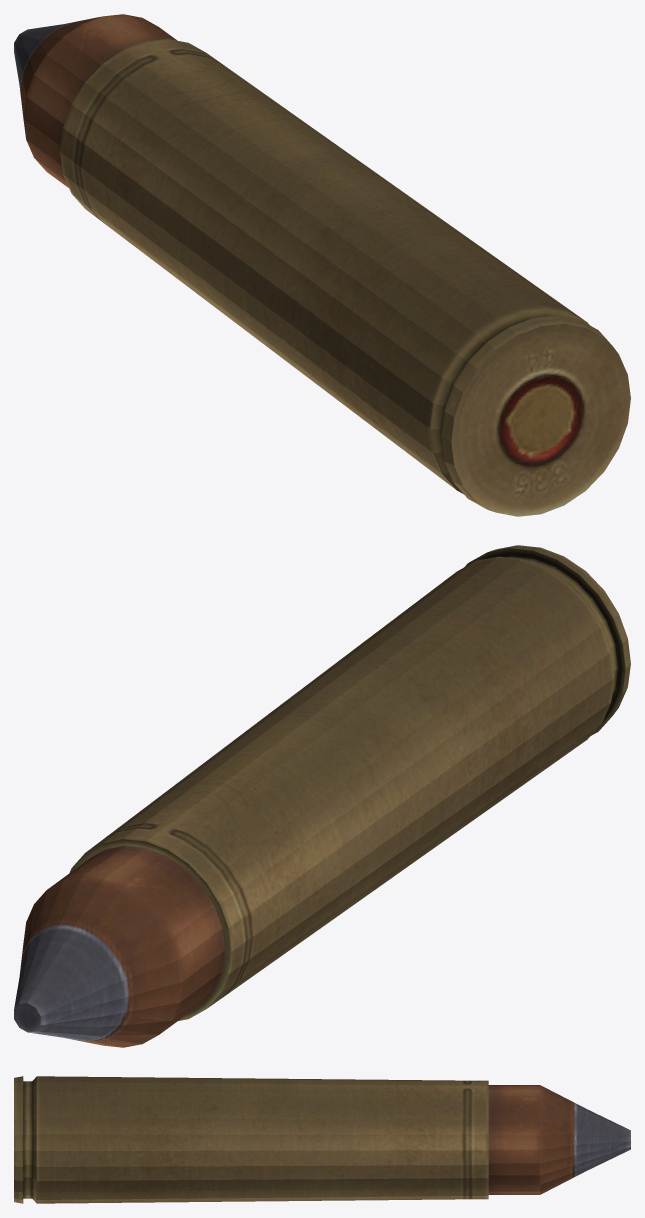
3 renders of one model, top to bottom at view 1: azimuth 30°, elevation 25°; view 2: azimuth 150°, elevation 25°; view 3: azimuth 270°, elevation 25°, orthographic. The views are drawn at different scales.
Visible parts, largest first — view 1: TW_5cadf6e5ae921500113bb973_PZ_Import; view 2: TW_5cadf6e5ae921500113bb973_PZ_Import; view 3: TW_5cadf6e5ae921500113bb973_PZ_Import.
Boxes of the visible parts, x1,y1,x2,y2 form: TW_5cadf6e5ae921500113bb973_PZ_Import: [14, 14, 630, 516]; TW_5cadf6e5ae921500113bb973_PZ_Import: [14, 545, 630, 1047]; TW_5cadf6e5ae921500113bb973_PZ_Import: [14, 1076, 630, 1203].
Size of the model in its own units: 0.00858 by 0.0413 by 0.00858.
1 material, 1 textured.
